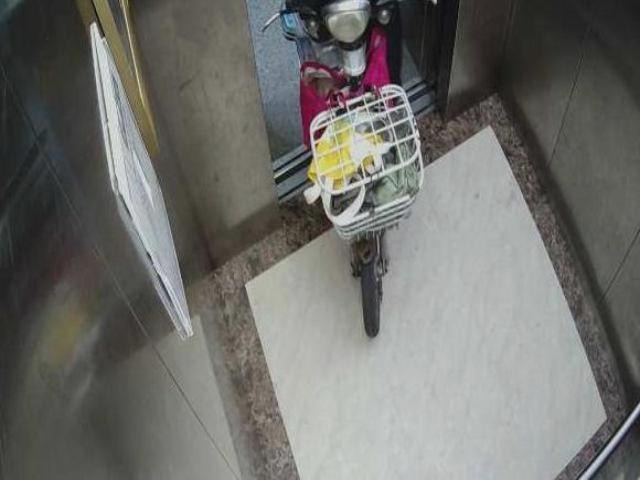emotor: (272, 8, 422, 368)
